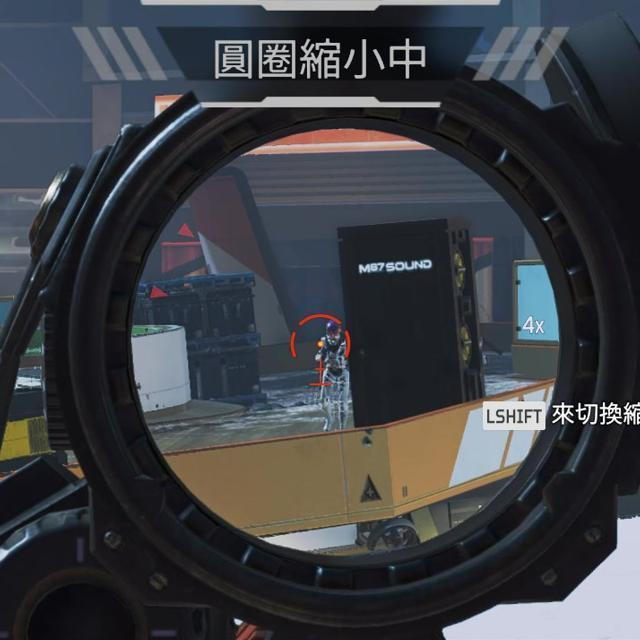avatar: (313, 321, 350, 431)
